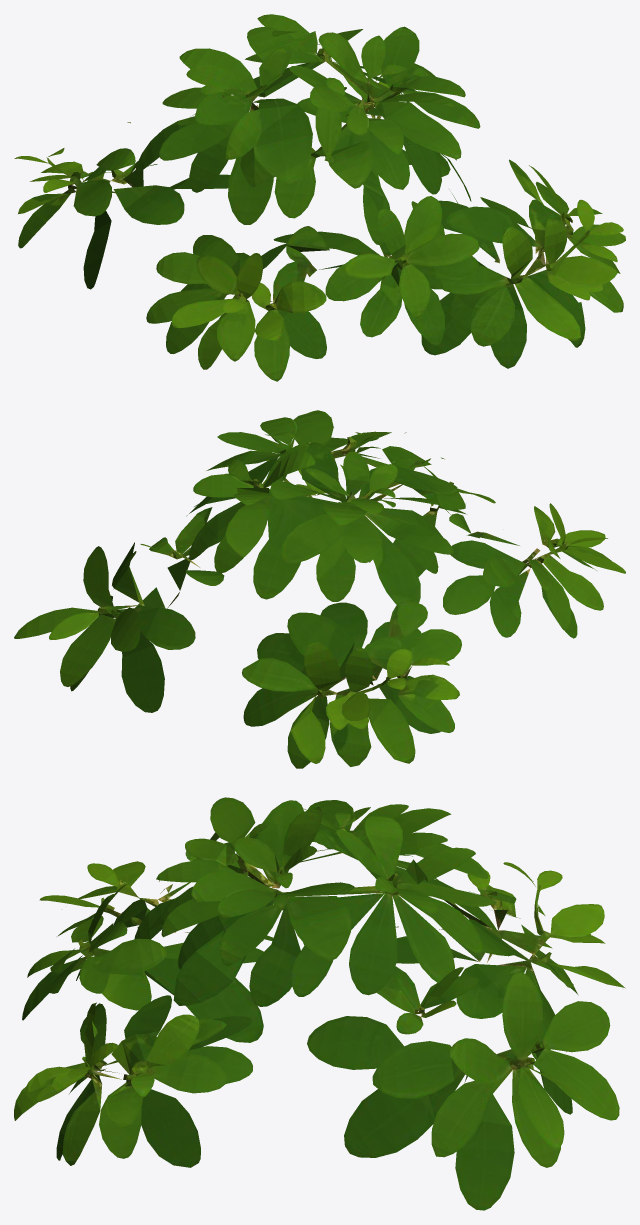
The model's file is leaf_wi.glb.
3 renders of one model, top to bottom at view 1: azimuth 30°, elevation 25°; view 2: azimuth 150°, elevation 25°; view 3: azimuth 270°, elevation 25°, orthographic. The views are drawn at different scales.
Parts seen in each view (by area): view 1: geometry_0; view 2: geometry_0; view 3: geometry_0.
Boxes of the visible parts, <box> form: geometry_0: <box>14,14,625,381</box>; geometry_0: <box>14,410,625,768</box>; geometry_0: <box>14,797,625,1210</box>.
Size of the model in its own units: 0.2998 by 0.1709 by 0.3157.
Materials: 1 (1 with a texture image).
